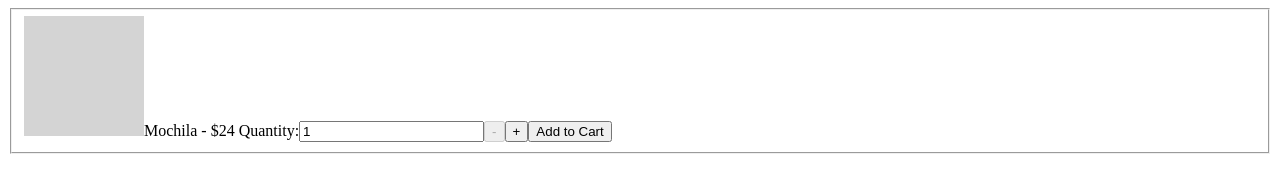
Test: ProductShop › - baja el número y se detiene en 1
The width and height of the screenshot is (1280, 171).
Click the button "+".
click(516, 131)  # box top-left (504, 121), bottom-right (528, 142)
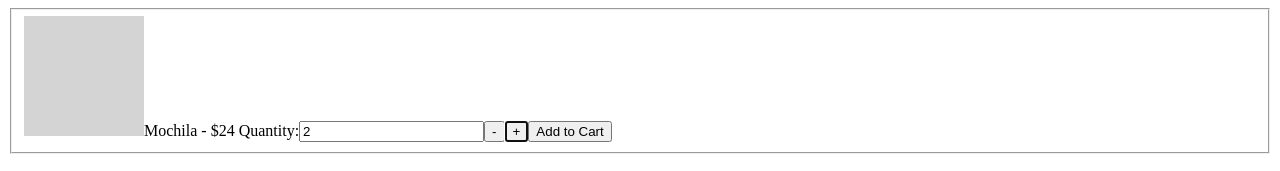
Click the button "+".
click(516, 131)  # box top-left (504, 121), bottom-right (528, 142)
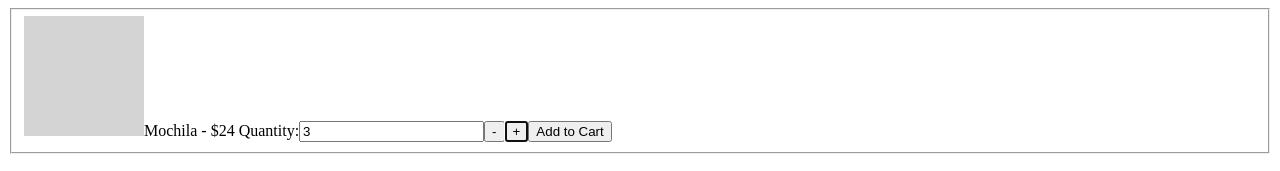
Click the button "-".
click(494, 131)  # box top-left (484, 121), bottom-right (505, 142)
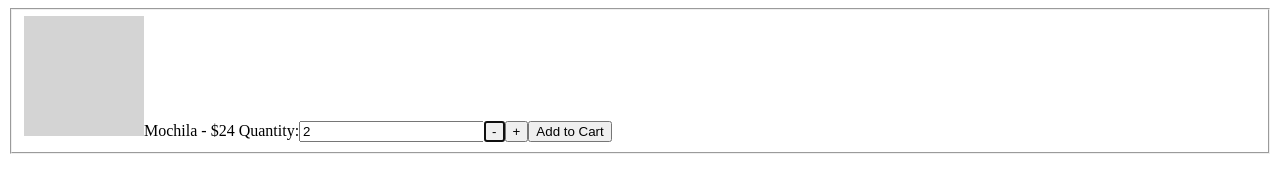
Check: the number field holds "2", box top-left (299, 121), bottom-right (484, 142)
Click the button "-".
click(494, 131)  # box top-left (484, 121), bottom-right (505, 142)
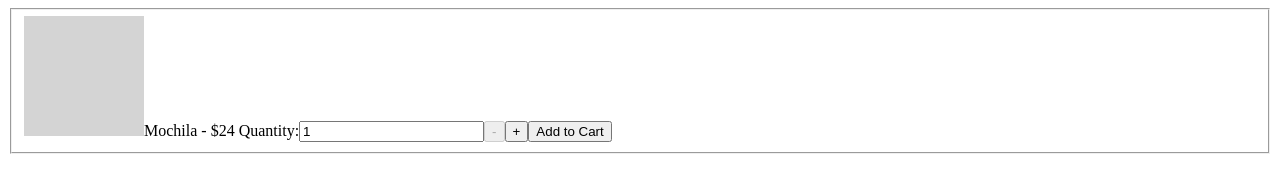
Check: the number field holds "1", box top-left (299, 121), bottom-right (484, 142)
Check: the button "-" is disabled, box top-left (484, 121), bottom-right (505, 142)
